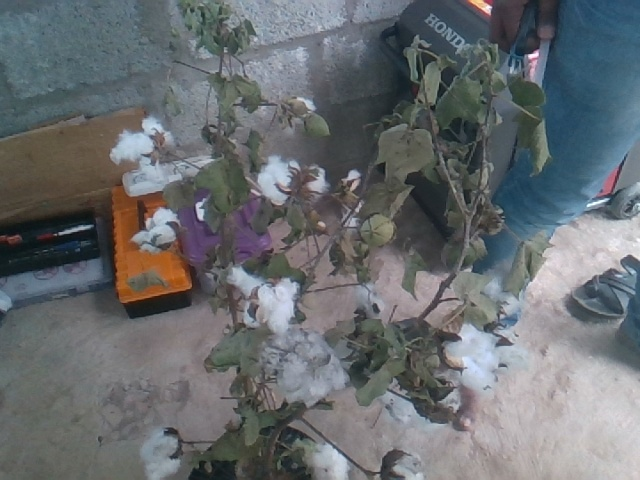cotton: (447, 327, 501, 387), (254, 278, 299, 329), (139, 431, 176, 480), (112, 124, 155, 164), (307, 439, 348, 480), (259, 160, 298, 201), (137, 210, 176, 251)
